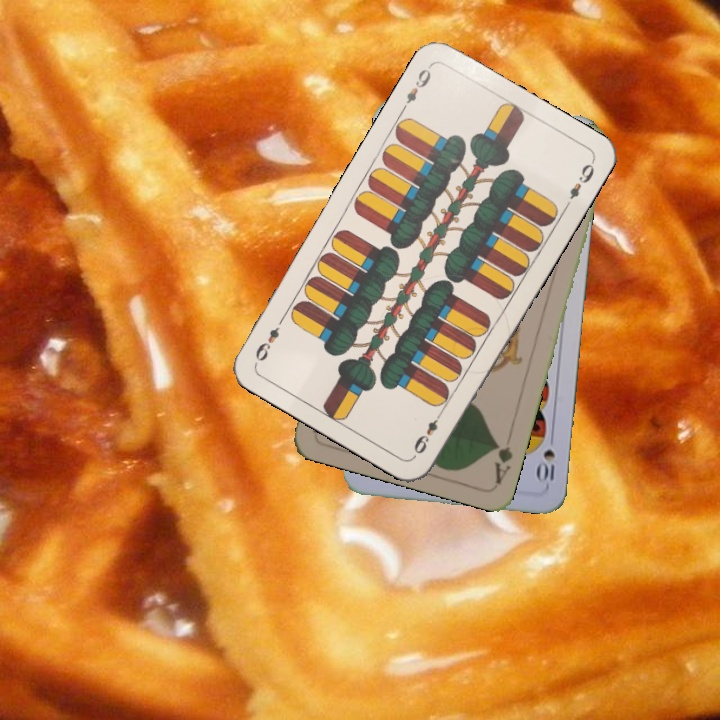E9: (409, 406, 446, 459), (397, 61, 434, 114)
GA: (490, 437, 516, 487)
S10: (535, 429, 557, 485)
